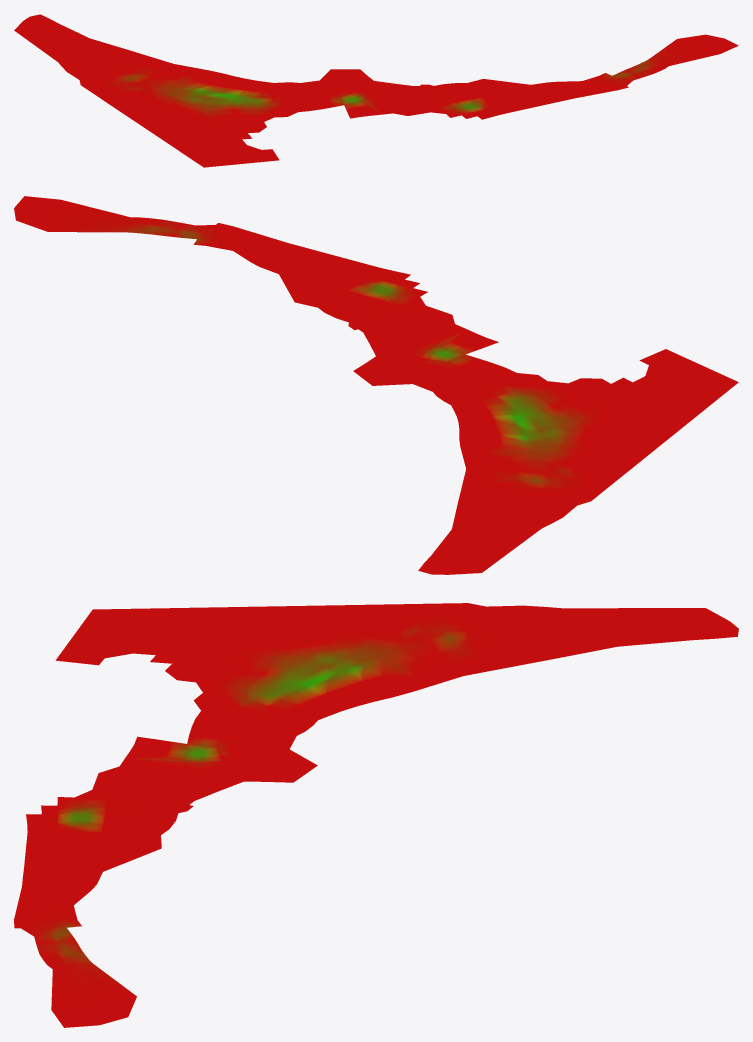
File: pref_sm_beach_winter_techfield_a_mirror_lv3.fbx
3 views of the same model, one above another, from view 1: azimuth 30°, elevation 25°; view 2: azimuth 150°, elevation 25°; view 3: azimuth 270°, elevation 25° (orthographic). The views are drawn at different scales.
Parts seen in each view (by area): view 1: pref_sm_beach_winter_techfield_a_mirror_lv3; view 2: pref_sm_beach_winter_techfield_a_mirror_lv3; view 3: pref_sm_beach_winter_techfield_a_mirror_lv3.
Part boxes in pixels (left/top/right/bottom): pref_sm_beach_winter_techfield_a_mirror_lv3: left=14, top=14, right=738, bottom=167; pref_sm_beach_winter_techfield_a_mirror_lv3: left=14, top=196, right=738, bottom=574; pref_sm_beach_winter_techfield_a_mirror_lv3: left=14, top=603, right=738, bottom=1027.
Bounding box in the file's own units: 52.08 × 0.0027 × 37.56.
